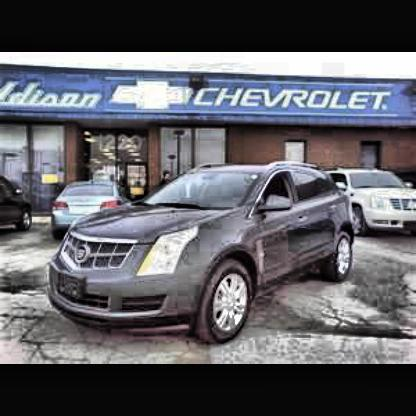Cadillac SRX SUV 2012: (50, 163, 357, 350)
